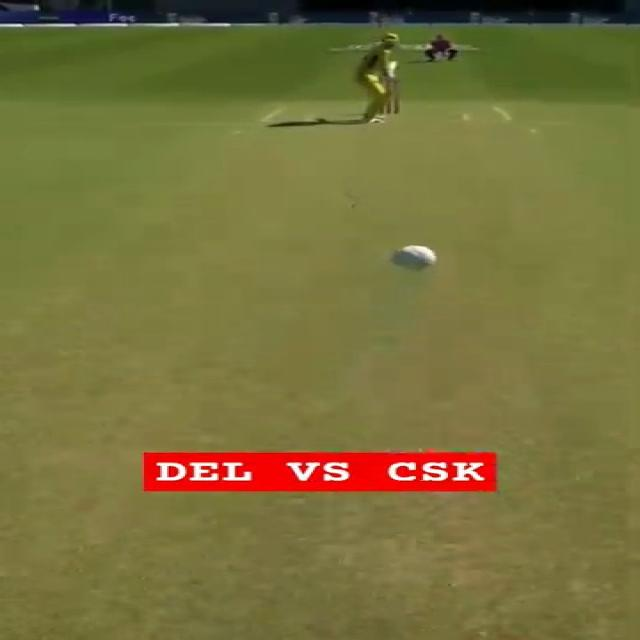ball: (382, 244, 439, 275)
